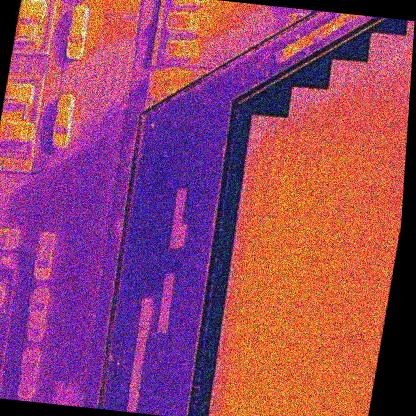Hotspot: (244, 144, 262, 178), (291, 242, 308, 277), (315, 153, 334, 184), (226, 269, 243, 303), (374, 250, 392, 282), (302, 88, 319, 121), (328, 154, 346, 185), (272, 118, 290, 149), (342, 308, 359, 340), (335, 278, 352, 310), (324, 184, 341, 216), (343, 218, 361, 247), (337, 186, 354, 216)
Normal: (277, 242, 297, 276), (308, 214, 327, 247), (262, 180, 282, 211), (262, 272, 280, 306), (310, 276, 328, 310), (239, 176, 257, 210), (355, 124, 373, 158), (241, 332, 259, 366), (298, 276, 317, 308), (321, 278, 340, 310), (274, 180, 293, 212), (284, 366, 303, 398), (297, 366, 316, 398), (312, 337, 331, 369), (274, 274, 292, 307), (350, 247, 368, 280), (296, 213, 314, 246), (287, 181, 305, 214), (292, 150, 310, 183), (308, 120, 326, 153), (381, 97, 400, 128), (390, 37, 409, 68), (238, 270, 255, 304), (233, 302, 251, 334), (269, 304, 287, 336), (257, 302, 275, 334), (230, 239, 248, 271), (266, 242, 284, 274), (242, 239, 260, 271), (254, 240, 272, 272), (303, 245, 321, 277), (361, 249, 379, 281), (283, 212, 301, 244), (331, 216, 349, 248), (320, 214, 338, 246), (299, 182, 317, 214), (312, 183, 330, 215), (371, 188, 389, 220), (267, 148, 285, 180), (280, 149, 298, 181), (261, 116, 279, 148), (296, 119, 314, 151), (321, 122, 339, 154), (212, 360, 230, 392), (343, 368, 361, 400), (229, 332, 247, 364), (278, 334, 296, 366), (289, 334, 307, 366), (271, 210, 288, 243), (377, 127, 394, 160), (333, 122, 350, 155), (393, 97, 410, 130), (221, 302, 239, 333), (317, 308, 335, 339), (365, 309, 383, 340), (326, 247, 344, 278), (259, 210, 277, 241), (304, 152, 322, 183), (389, 129, 407, 160), (347, 94, 365, 125), (328, 61, 346, 92), (309, 368, 327, 399), (305, 307, 322, 339), (250, 272, 267, 304), (315, 246, 332, 278), (252, 178, 269, 210), (383, 189, 400, 221), (256, 148, 273, 180), (314, 90, 331, 122), (340, 62, 357, 94), (364, 64, 381, 96), (224, 362, 241, 394), (261, 364, 278, 396), (273, 364, 290, 396), (356, 368, 372, 402), (265, 334, 282, 366), (337, 338, 354, 370), (369, 280, 387, 310), (246, 210, 264, 240), (361, 158, 379, 188), (248, 116, 266, 146), (284, 120, 302, 150), (353, 64, 371, 94), (379, 37, 397, 67), (237, 364, 255, 394), (216, 332, 234, 362), (253, 334, 271, 364), (300, 338, 318, 368), (345, 124, 361, 157), (367, 126, 383, 159), (359, 339, 376, 370), (282, 305, 299, 336), (287, 276, 304, 307), (339, 247, 356, 278), (366, 219, 383, 250), (379, 219, 396, 250), (359, 188, 376, 219), (351, 157, 368, 188), (336, 92, 353, 123), (368, 35, 385, 66), (289, 90, 307, 119), (325, 92, 341, 124), (360, 94, 376, 126), (321, 368, 337, 400), (333, 368, 349, 400), (326, 338, 342, 370), (246, 303, 263, 333), (294, 306, 311, 336), (330, 308, 347, 338), (358, 280, 375, 310), (235, 209, 252, 239), (355, 218, 372, 248), (375, 160, 392, 190), (250, 364, 267, 394), (348, 340, 365, 370), (347, 279, 363, 310), (348, 187, 364, 218), (354, 310, 370, 340), (340, 156, 356, 186), (387, 160, 403, 190), (371, 96, 387, 126), (375, 67, 391, 97), (386, 69, 402, 98), (396, 70, 411, 99), (208, 391, 225, 416), (220, 393, 238, 416), (244, 393, 262, 416), (232, 394, 250, 416), (268, 394, 286, 416), (280, 396, 298, 416), (256, 395, 273, 416), (402, 38, 413, 70), (304, 397, 322, 416), (294, 396, 310, 416), (338, 399, 355, 416), (316, 399, 332, 416), (351, 399, 367, 416), (328, 399, 343, 416)
